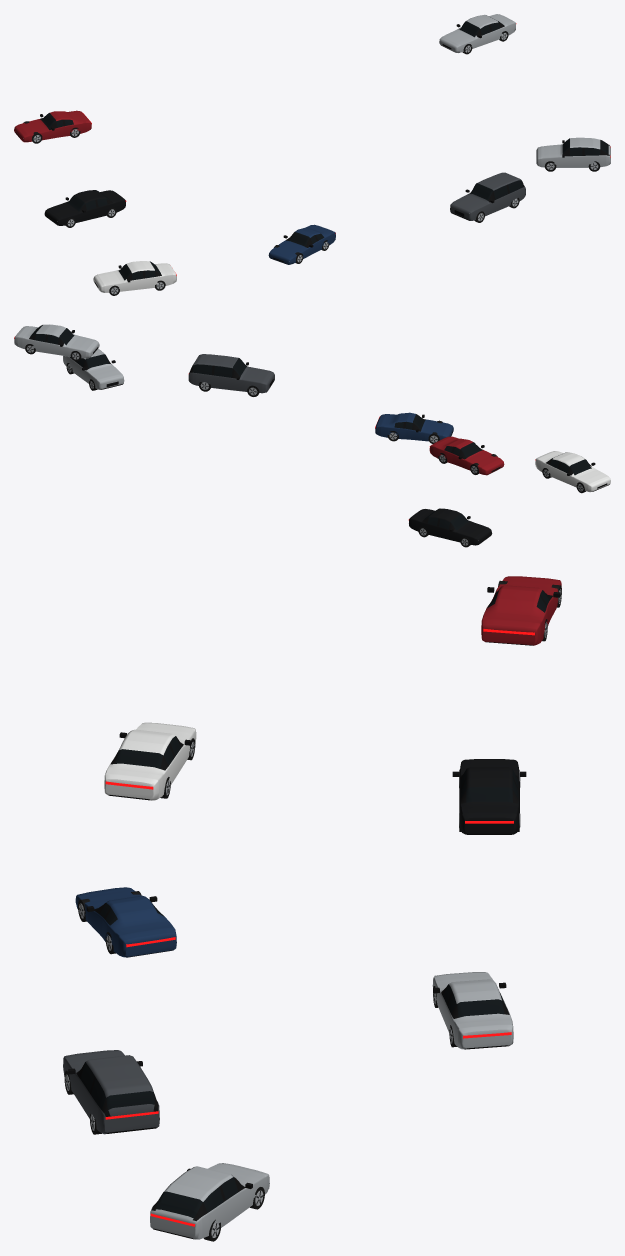
Rendered from bmw_showroom_placeholder_cars.glb.
3 views of the same model, one above another, from view 1: azimuth 30°, elevation 25°; view 2: azimuth 150°, elevation 25°; view 3: azimuth 270°, elevation 25° (orthographic). The views are drawn at different scales.
Parts seen in each view (by area): view 1: P02_CAR_03_Suv_CarPaintGraphite, P02_CAR_04_Crossover_CarPaintSilver, P02_CAR_02_Sedan_CarPaintWhite, P02_CAR_05_Sedan_CarPaintBlack, P02_CAR_07_Sedan_CarPaintSilver, P02_CAR_06_Coupe_CarPaintRed, P02_CAR_01_Coupe_CarPaintBlue; view 2: P02_CAR_03_Suv_CarPaintGraphite, P02_CAR_07_Sedan_CarPaintSilver, P02_CAR_05_Sedan_CarPaintBlack, P02_CAR_02_Sedan_CarPaintWhite, P02_CAR_01_Coupe_CarPaintBlue, P02_CAR_06_Coupe_CarPaintRed, P02_CAR_04_Crossover_CarPaintSilver; view 3: P02_CAR_04_Crossover_CarPaintSilver, P02_CAR_03_Suv_CarPaintGraphite, P02_CAR_02_Sedan_CarPaintWhite, P02_CAR_07_Sedan_CarPaintSilver, P02_CAR_01_Coupe_CarPaintBlue, P02_CAR_05_Sedan_CarPaintBlack, P02_CAR_06_Coupe_CarPaintRed.
Part boxes in pixels (bbox=[...]): P02_CAR_03_Suv_CarPaintGraphite: bbox=[450, 172, 525, 222]; P02_CAR_04_Crossover_CarPaintSilver: bbox=[536, 137, 610, 171]; P02_CAR_02_Sedan_CarPaintWhite: bbox=[93, 261, 176, 295]; P02_CAR_05_Sedan_CarPaintBlack: bbox=[44, 190, 126, 227]; P02_CAR_07_Sedan_CarPaintSilver: bbox=[439, 14, 516, 54]; P02_CAR_06_Coupe_CarPaintRed: bbox=[14, 110, 91, 143]; P02_CAR_01_Coupe_CarPaintBlue: bbox=[268, 224, 335, 264]; P02_CAR_03_Suv_CarPaintGraphite: bbox=[188, 354, 274, 396]; P02_CAR_07_Sedan_CarPaintSilver: bbox=[14, 324, 99, 361]; P02_CAR_05_Sedan_CarPaintBlack: bbox=[408, 508, 492, 547]; P02_CAR_02_Sedan_CarPaintWhite: bbox=[535, 451, 610, 493]; P02_CAR_01_Coupe_CarPaintBlue: bbox=[375, 412, 453, 443]; P02_CAR_06_Coupe_CarPaintRed: bbox=[429, 436, 504, 475]; P02_CAR_04_Crossover_CarPaintSilver: bbox=[63, 349, 124, 390]; P02_CAR_04_Crossover_CarPaintSilver: bbox=[150, 1163, 269, 1241]; P02_CAR_03_Suv_CarPaintGraphite: bbox=[63, 1050, 159, 1134]; P02_CAR_02_Sedan_CarPaintWhite: bbox=[104, 722, 196, 800]; P02_CAR_07_Sedan_CarPaintSilver: bbox=[432, 972, 513, 1049]; P02_CAR_01_Coupe_CarPaintBlue: bbox=[75, 887, 176, 957]; P02_CAR_05_Sedan_CarPaintBlack: bbox=[452, 759, 526, 834]; P02_CAR_06_Coupe_CarPaintRed: bbox=[481, 576, 561, 645].
Size of the model in its own units: 37.38 by 7.1 by 15.43.
